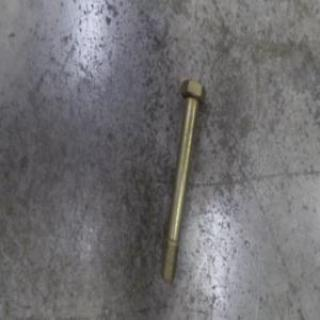Bolttrack_idkeyframe: (158, 76, 206, 284)
